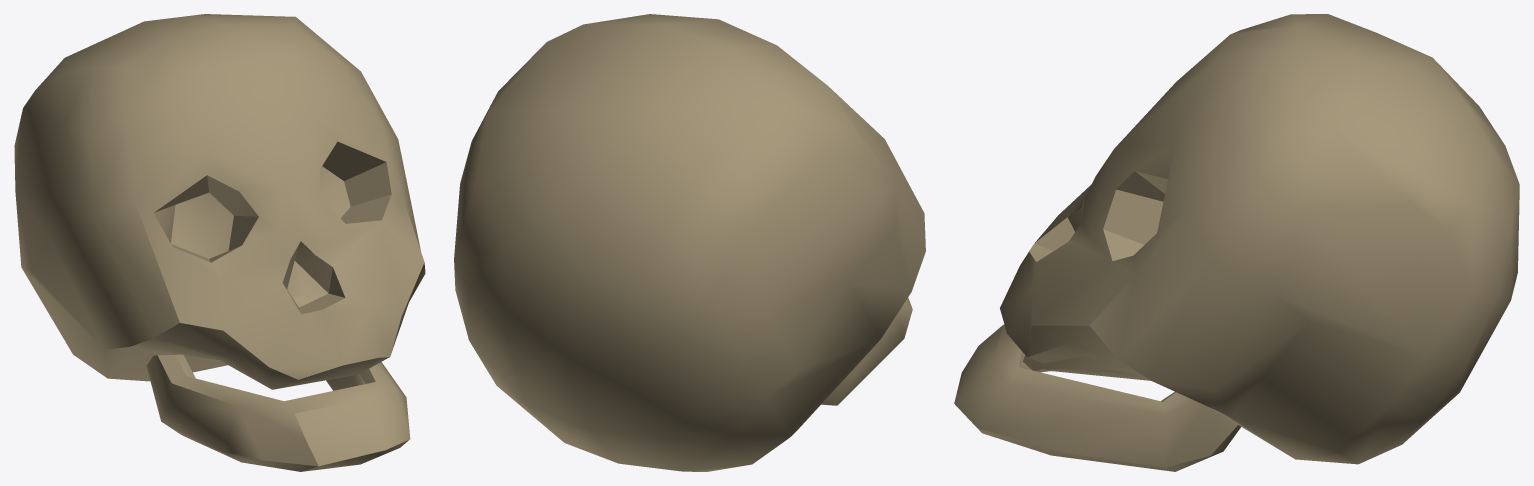
The model's file is Skull.glb.
The picture shows the model from 3 angles, left to right: view 1: azimuth 30°, elevation 25°; view 2: azimuth 150°, elevation 25°; view 3: azimuth 270°, elevation 25°; orthographic projection. The views are drawn at different scales.
Visible parts, largest first — view 1: Skull_Cylinder.043; view 2: Skull_Cylinder.043; view 3: Skull_Cylinder.043.
Boxes of the visible parts, x1,y1,x2,y2 form: Skull_Cylinder.043: (14, 14, 425, 471); Skull_Cylinder.043: (454, 14, 925, 471); Skull_Cylinder.043: (954, 14, 1519, 471).
Size of the model in its own units: 0.4436 by 0.4606 by 0.5966.
